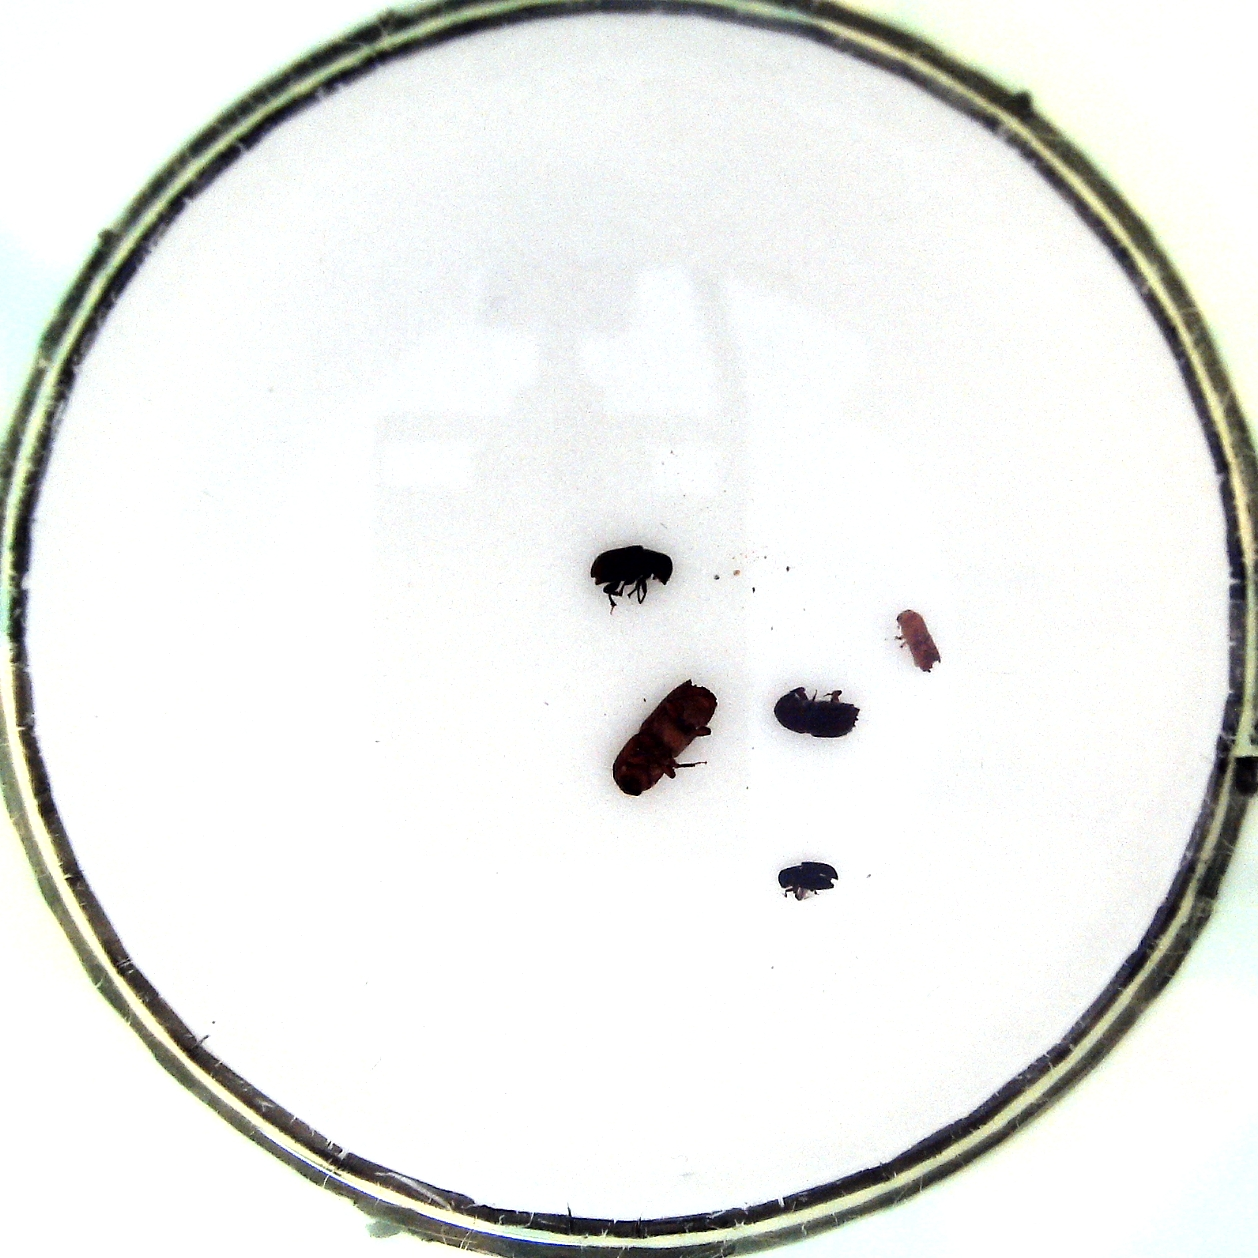Boerner: (611, 672, 721, 797)
Linnaeus: (770, 684, 862, 745)
acuminatus: (891, 607, 943, 677)
armandi: (588, 540, 674, 615)
coleoptera: (774, 859, 846, 908)
